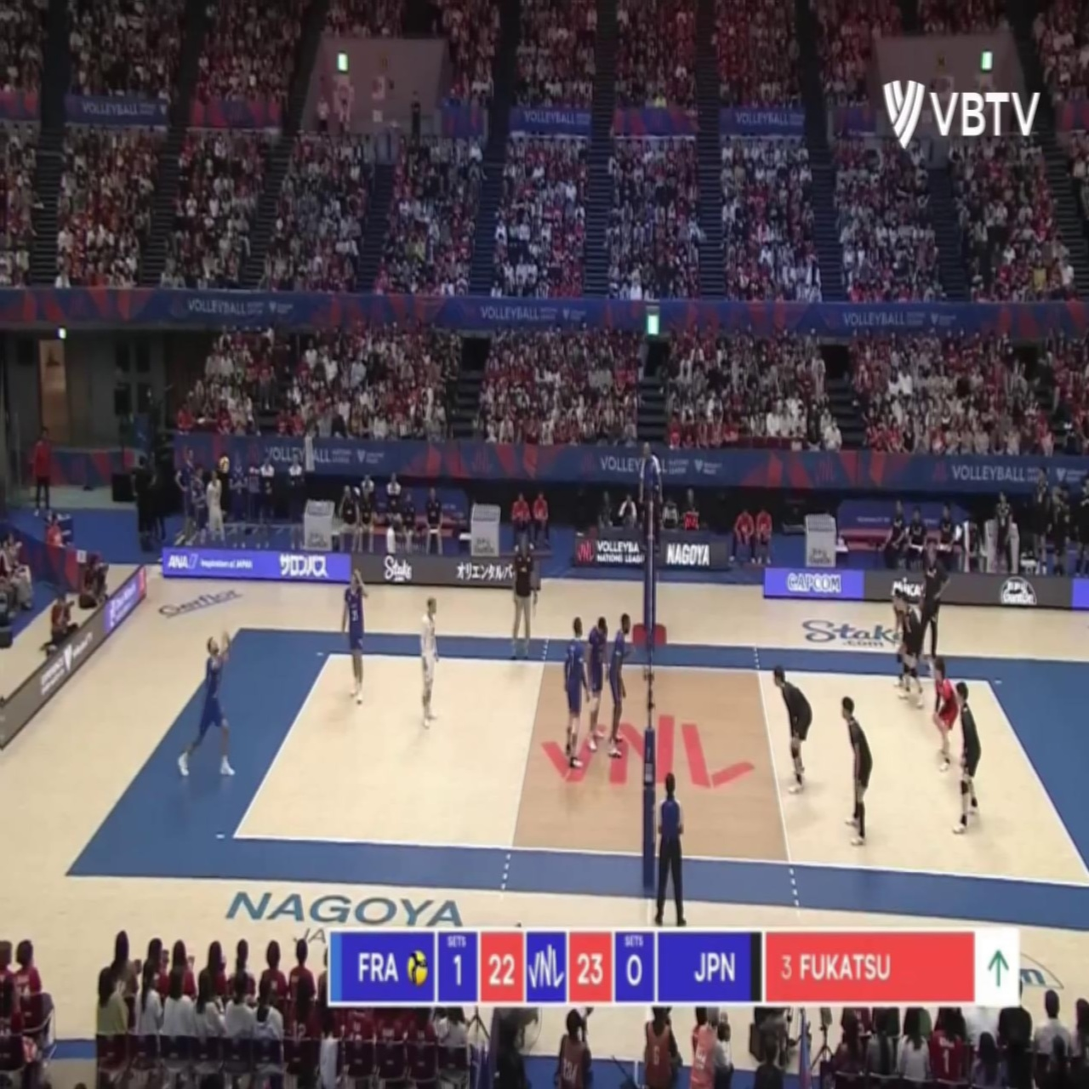ball: (218, 456, 228, 475)
